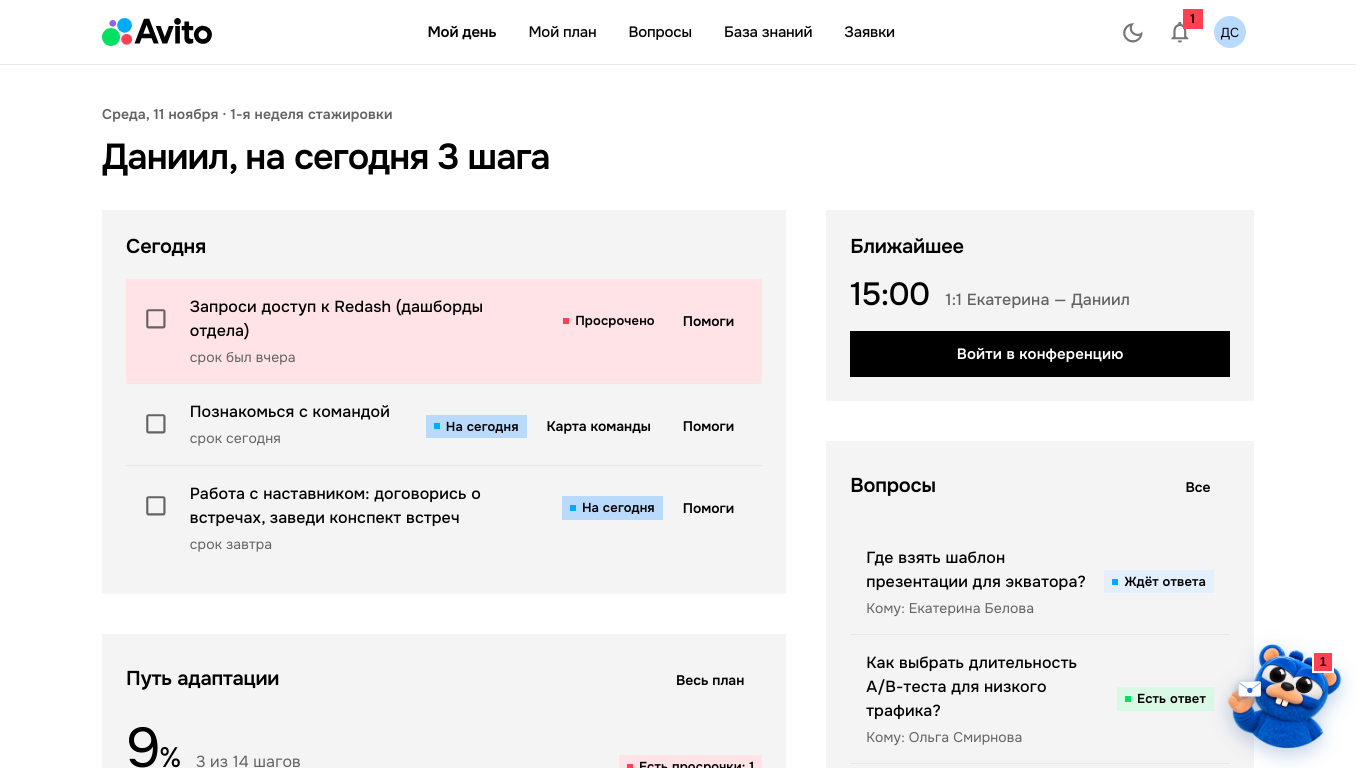
ветви интерфейса стажёра › ответ Напарника с разметкой и черновиками разных действий; сбой подтверждения и повтор
Expected: the heading "Даниил, на сегодня 3 шага" is shown, [102, 137, 550, 178]
Click the button named "Открыть чат с Напарником". click: coordinates (1284, 695)
box: [1227, 643, 1342, 748]
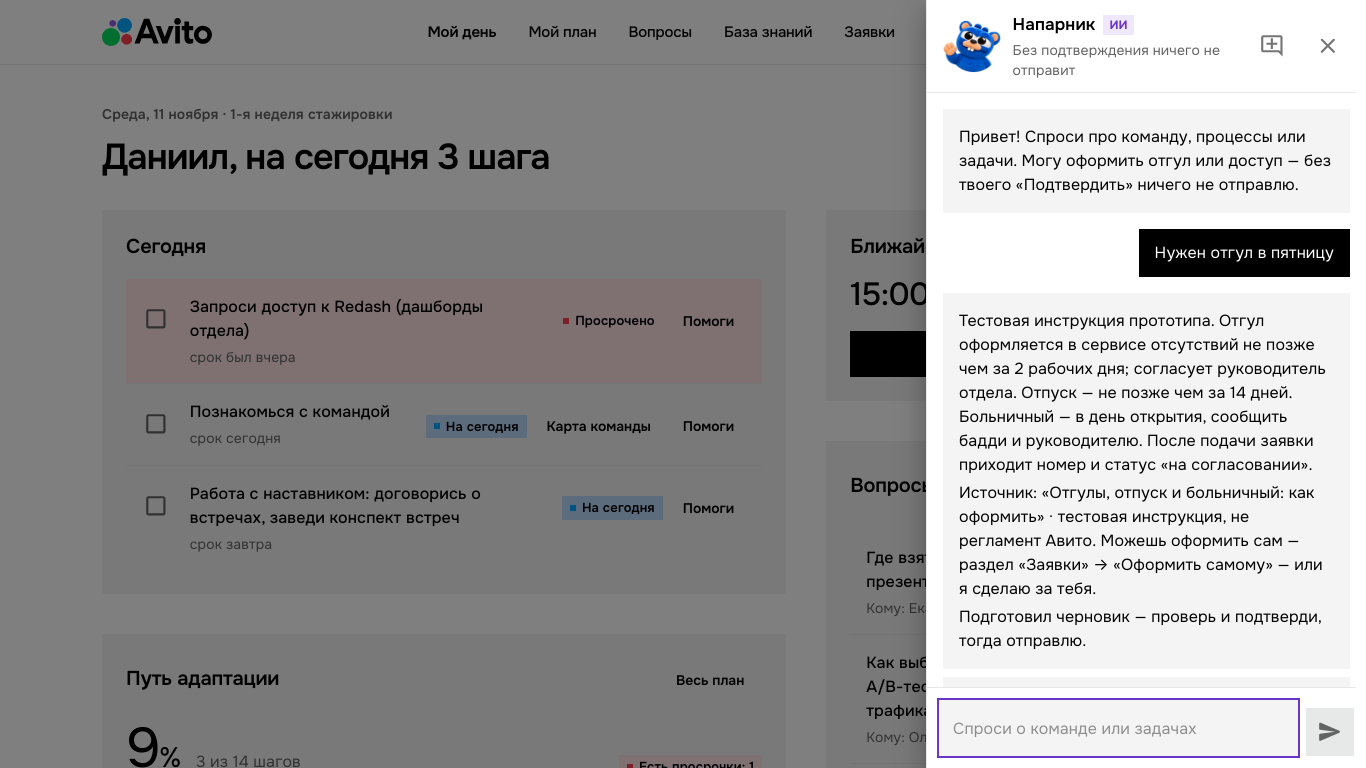
Type "Помоги с доступом" into the text box with placeholder "Спроси о команде или задачах". click: coordinates (1118, 728)
box: [953, 716, 1284, 740]
Then press Enter
(page scrolled)
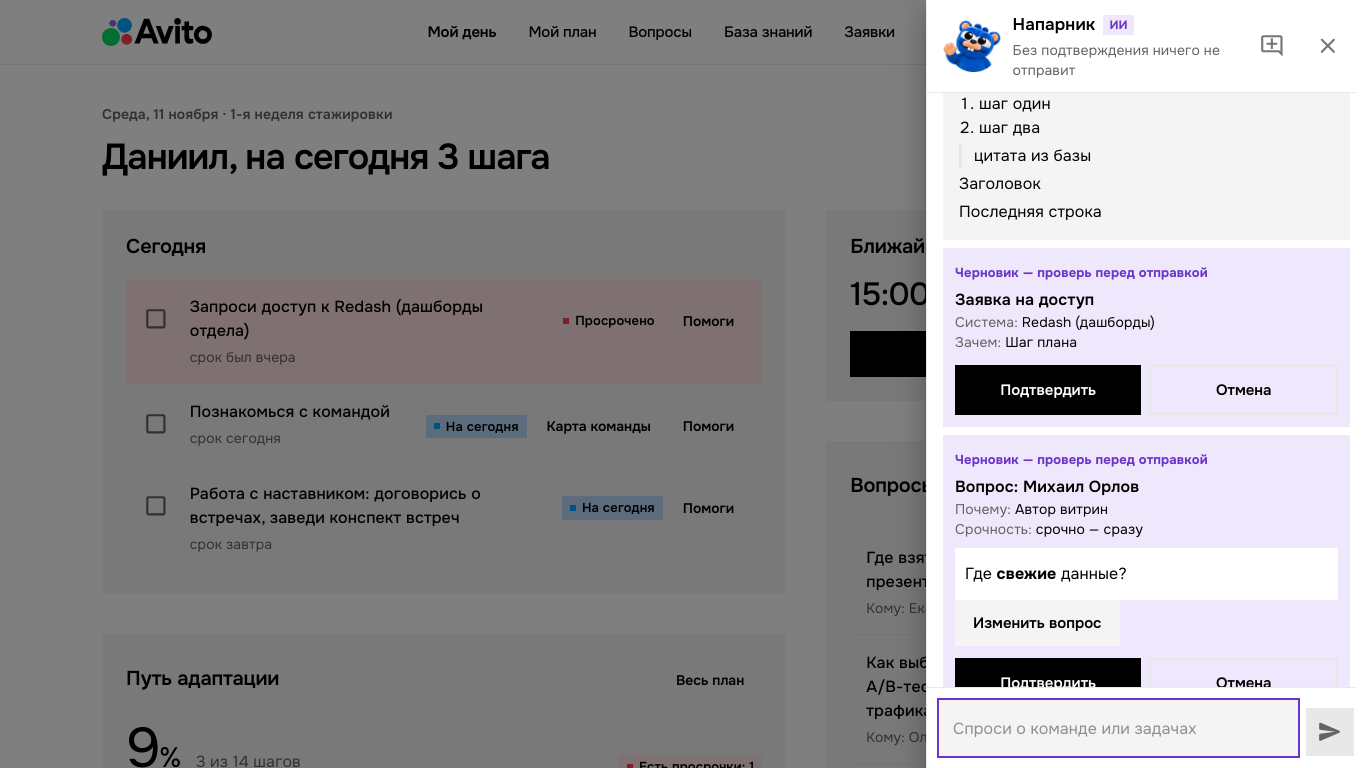
Now the text "цитата из базы" is shown, box [959, 144, 1334, 168]
Now the text "Заявка на доступ" is shown, box [955, 289, 1094, 310]
Now the text "Вопрос: Михаил Орлов" is shown, box [955, 476, 1139, 497]
Click the button "Подтвердить" below "Зачем". click: coordinates (1048, 390)
box: [955, 365, 1141, 415]
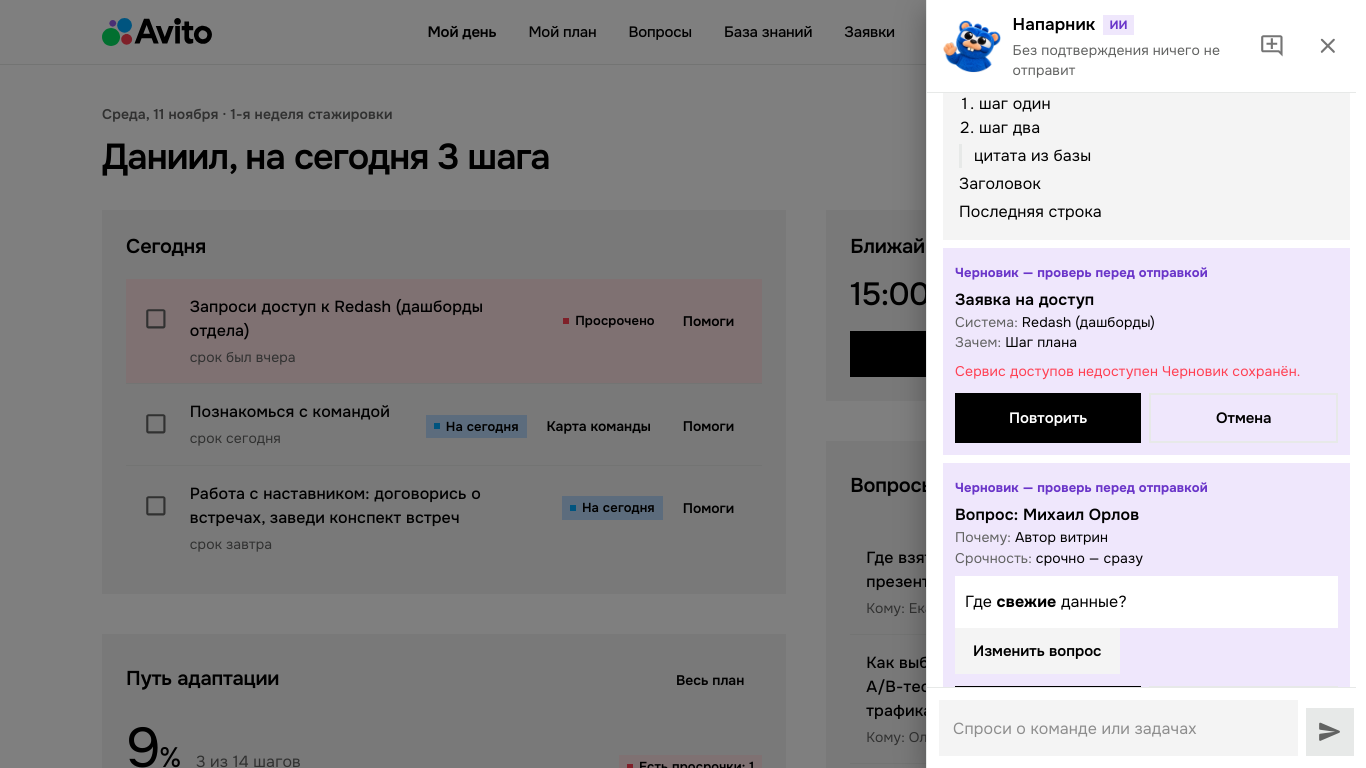
Now the text "Сервис доступов недоступен Черновик сохранён." is shown, box [955, 361, 1338, 381]
Click the button "Повторить". click: coordinates (1048, 418)
box: [955, 393, 1141, 443]
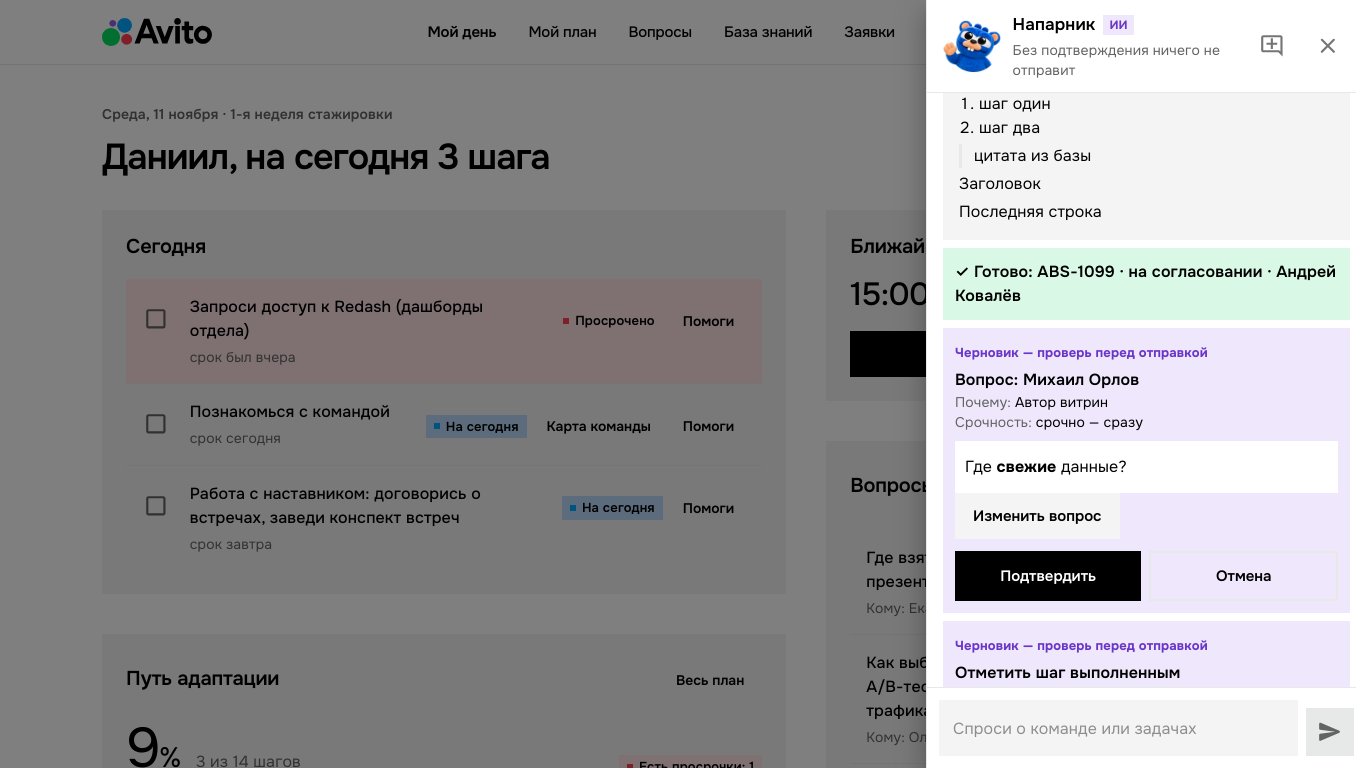
Now the text "✓ Готово: ABS-1099 · на согласовании · Андрей Ковалёв" is shown, box [955, 260, 1338, 308]
Click the button "Подтвердить". click: coordinates (1048, 576)
box: [955, 551, 1141, 601]
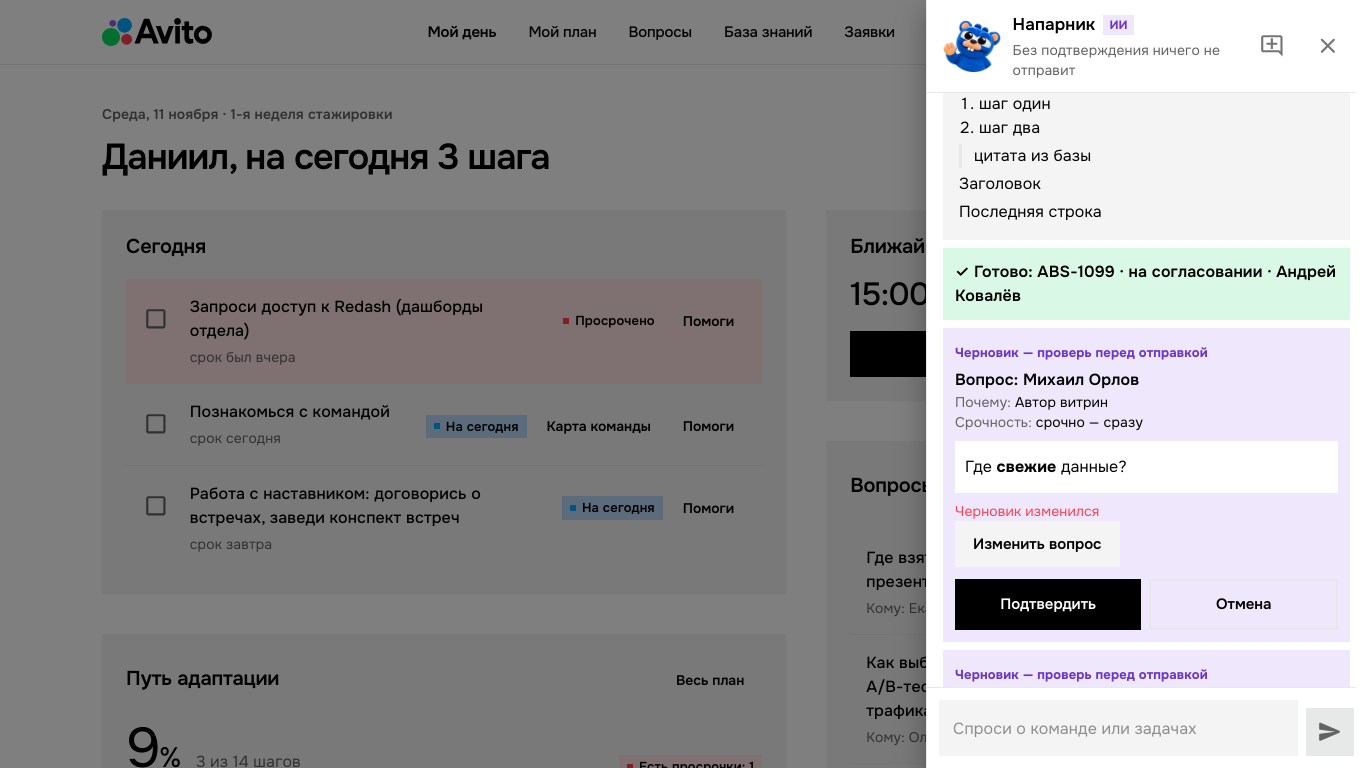
Now the text "Черновик изменился" is shown, box [955, 502, 1099, 520]
